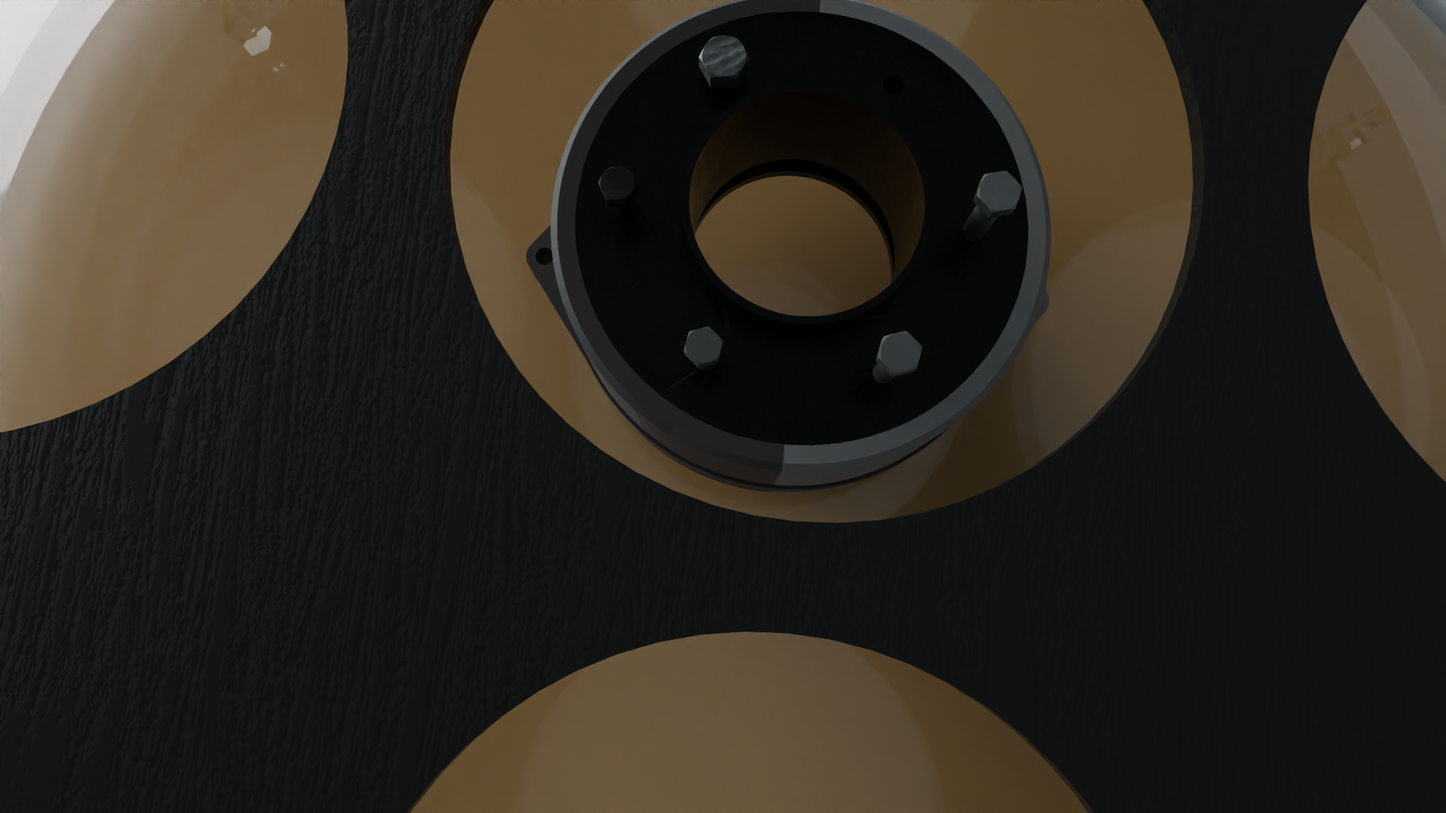bolt: (699, 35, 749, 80), (878, 330, 923, 374), (976, 171, 1023, 212), (684, 327, 723, 365), (598, 166, 638, 202)
